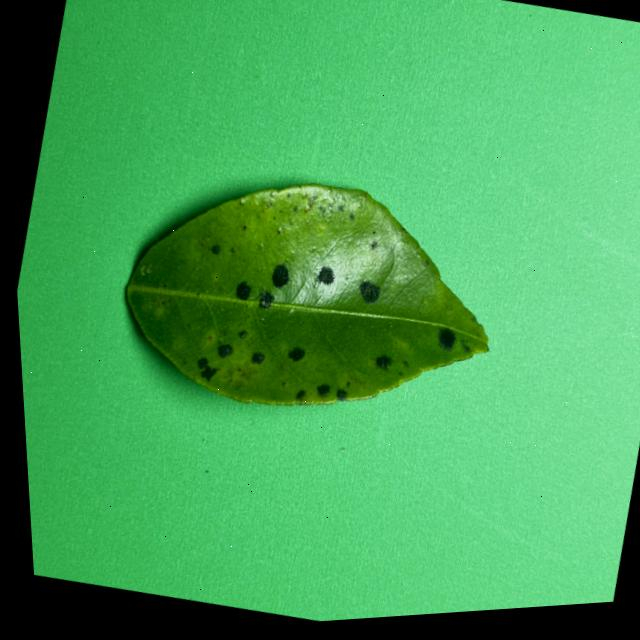sooty_mold: (141, 184, 486, 405)
